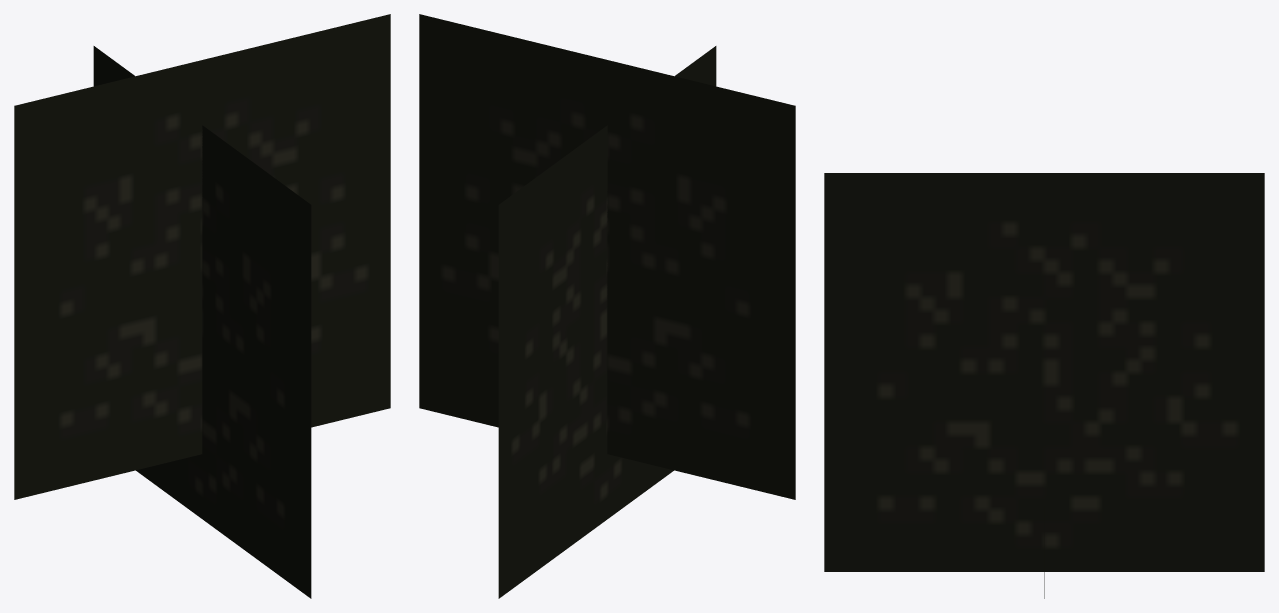
File: EnvFldMD_FoliageGrass_B_MA.FBX
3 views of the same model, side by side, from view 1: azimuth 30°, elevation 25°; view 2: azimuth 150°, elevation 25°; view 3: azimuth 270°, elevation 25° (orthographic).
Visible parts, largest first — view 1: EnvFldMD_FoliageGrass_B_MA; view 2: EnvFldMD_FoliageGrass_B_MA; view 3: EnvFldMD_FoliageGrass_B_MA.
Part boxes in pixels (x1,y1,x2,y2): EnvFldMD_FoliageGrass_B_MA: (14,14,390,598); EnvFldMD_FoliageGrass_B_MA: (419,14,795,598); EnvFldMD_FoliageGrass_B_MA: (824,173,1264,598).
Size of the model in its own units: 144 by 167 by 144.
Materials: 1 (1 with a texture image).
